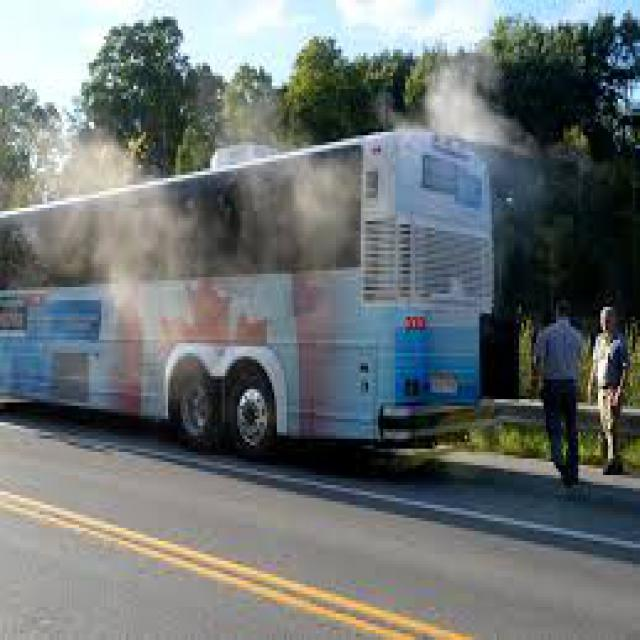smoke: (408, 39, 526, 194)
